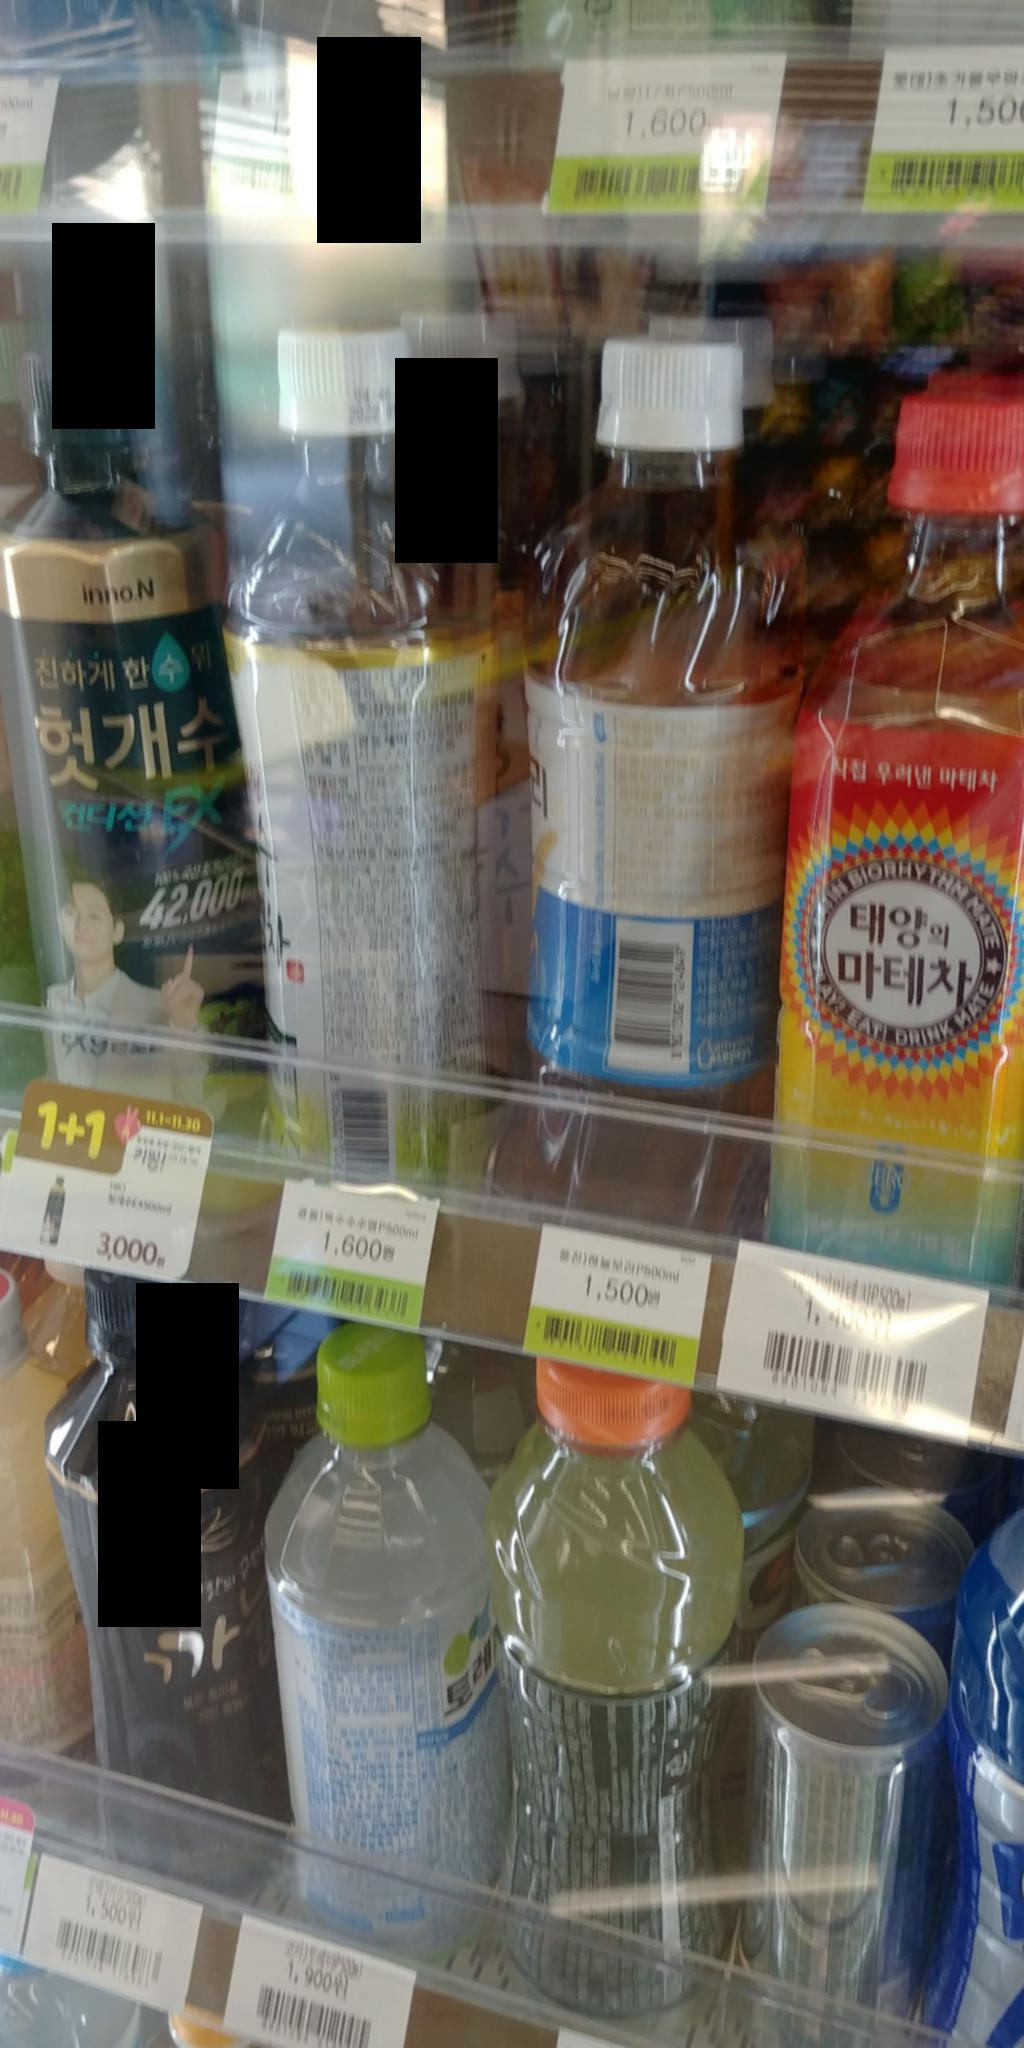gatorade_lemon: (474, 1339, 751, 2027)
haneulbori: (488, 317, 816, 1236)
oksususuyeomcha: (213, 306, 507, 1199)
toreta: (264, 1322, 524, 1966)
